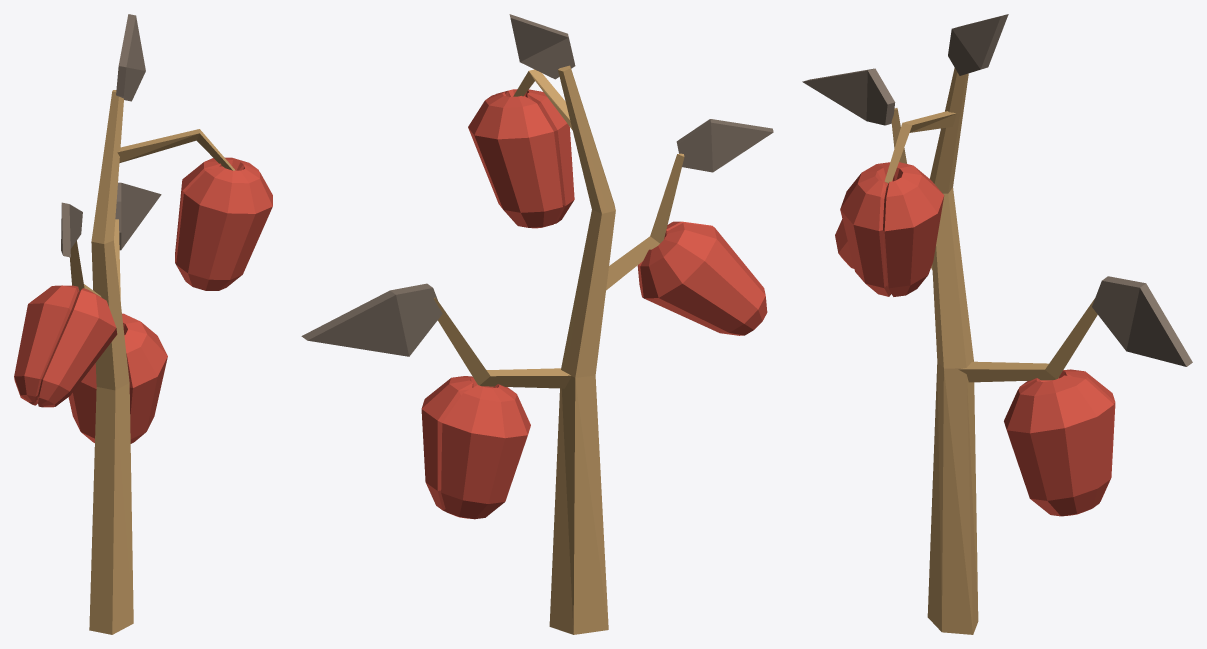
The model's file is plants_e.gltf.
3 renders of one model, left to right at view 1: azimuth 30°, elevation 25°; view 2: azimuth 150°, elevation 25°; view 3: azimuth 270°, elevation 25°, orthographic. The views are drawn at different scales.
Visible parts, largest first — view 1: plants_e001; view 2: plants_e001; view 3: plants_e001.
Boxes of the visible parts, x1,y1,x2,y2 form: plants_e001: [14, 14, 272, 634]; plants_e001: [301, 14, 773, 634]; plants_e001: [802, 14, 1192, 634].
Bounding box in the file's own units: 0.5062 × 0.9718 × 0.5448.
Materials: 1 (1 with a texture image).
